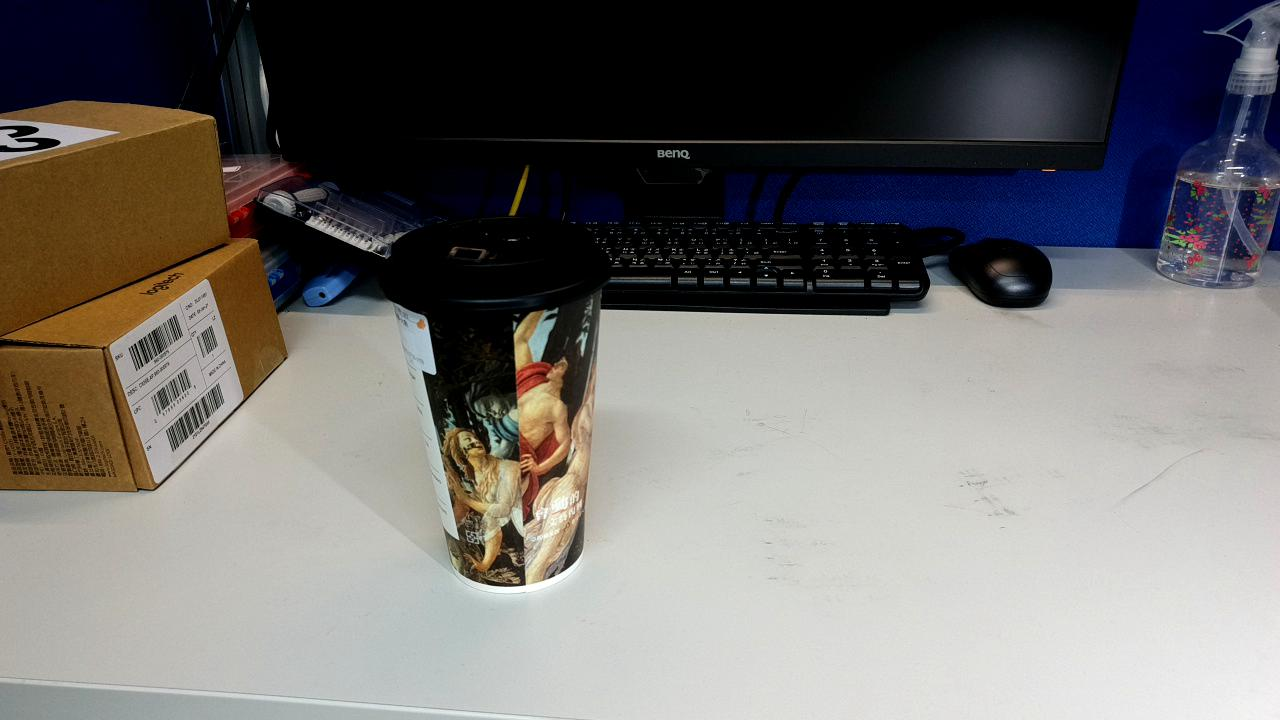blade: (661, 596, 722, 662)
grasp: (623, 509, 770, 626)
